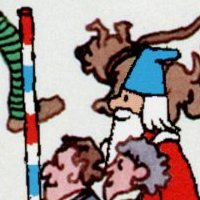wb: (112, 59, 164, 139)
